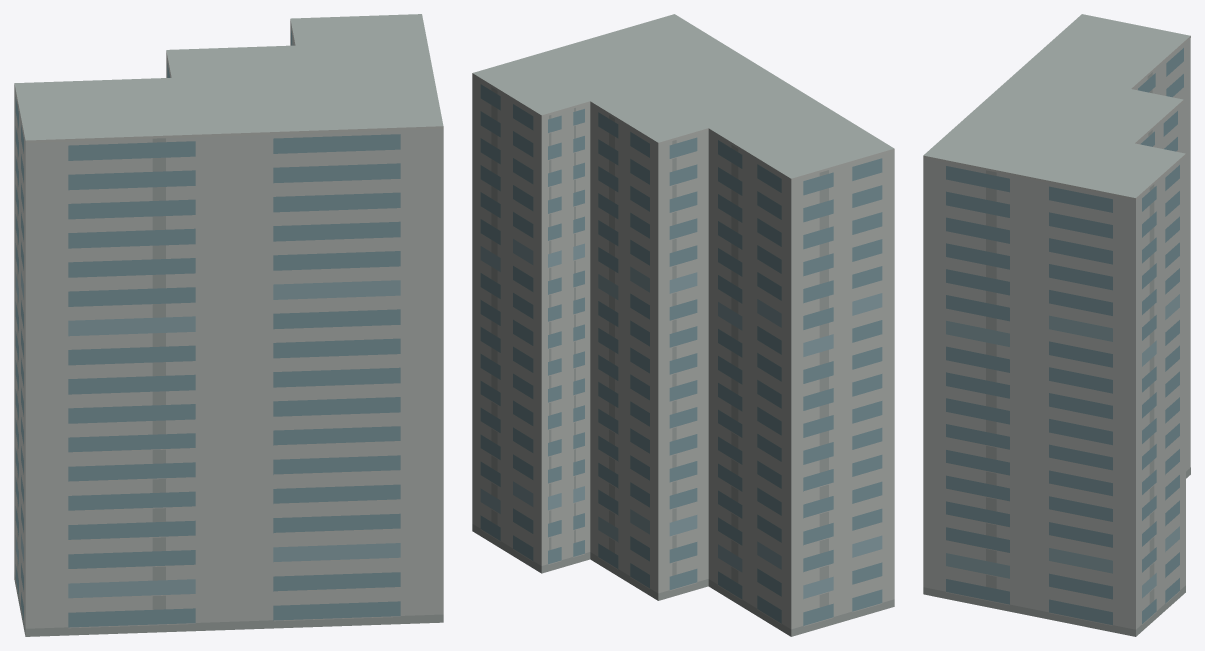
The model's file is residential-5310eaf5-119c-495a-a139-c20ed756b39e.glb.
The picture shows the model from 3 angles, left to right: view 1: azimuth 30°, elevation 25°; view 2: azimuth 150°, elevation 25°; view 3: azimuth 270°, elevation 25°; orthographic projection. The views are drawn at different scales.
Parts seen in each view (by area): view 1: residential-5310eaf5-119c-495a-a139-c20ed756b39e.tmp; view 2: residential-5310eaf5-119c-495a-a139-c20ed756b39e.tmp; view 3: residential-5310eaf5-119c-495a-a139-c20ed756b39e.tmp.
Boxes of the visible parts, <box> form: residential-5310eaf5-119c-495a-a139-c20ed756b39e.tmp: <box>14,14,443,636</box>; residential-5310eaf5-119c-495a-a139-c20ed756b39e.tmp: <box>472,14,894,636</box>; residential-5310eaf5-119c-495a-a139-c20ed756b39e.tmp: <box>923,14,1190,636</box>.
Bounding box in the file's own units: 44.12 × 49 × 27.09.
